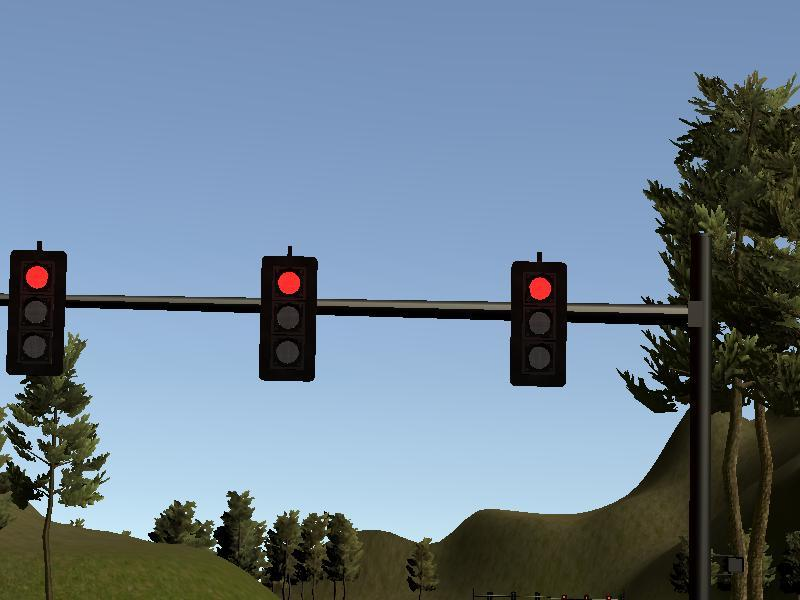Red: (510, 261, 566, 385), (259, 256, 315, 380), (8, 250, 64, 374)
